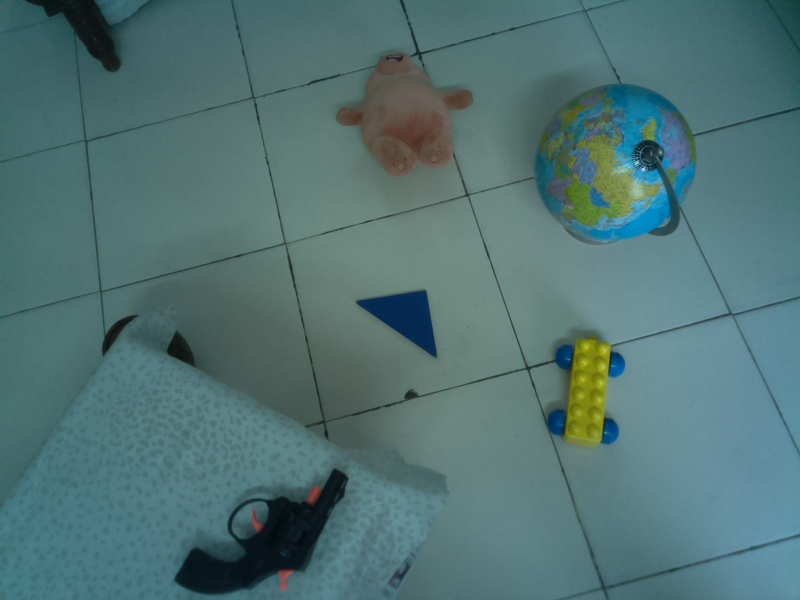Gun: (176, 466, 351, 596)
Triangle: (356, 289, 441, 359)
toy_Car: (544, 336, 627, 447)
